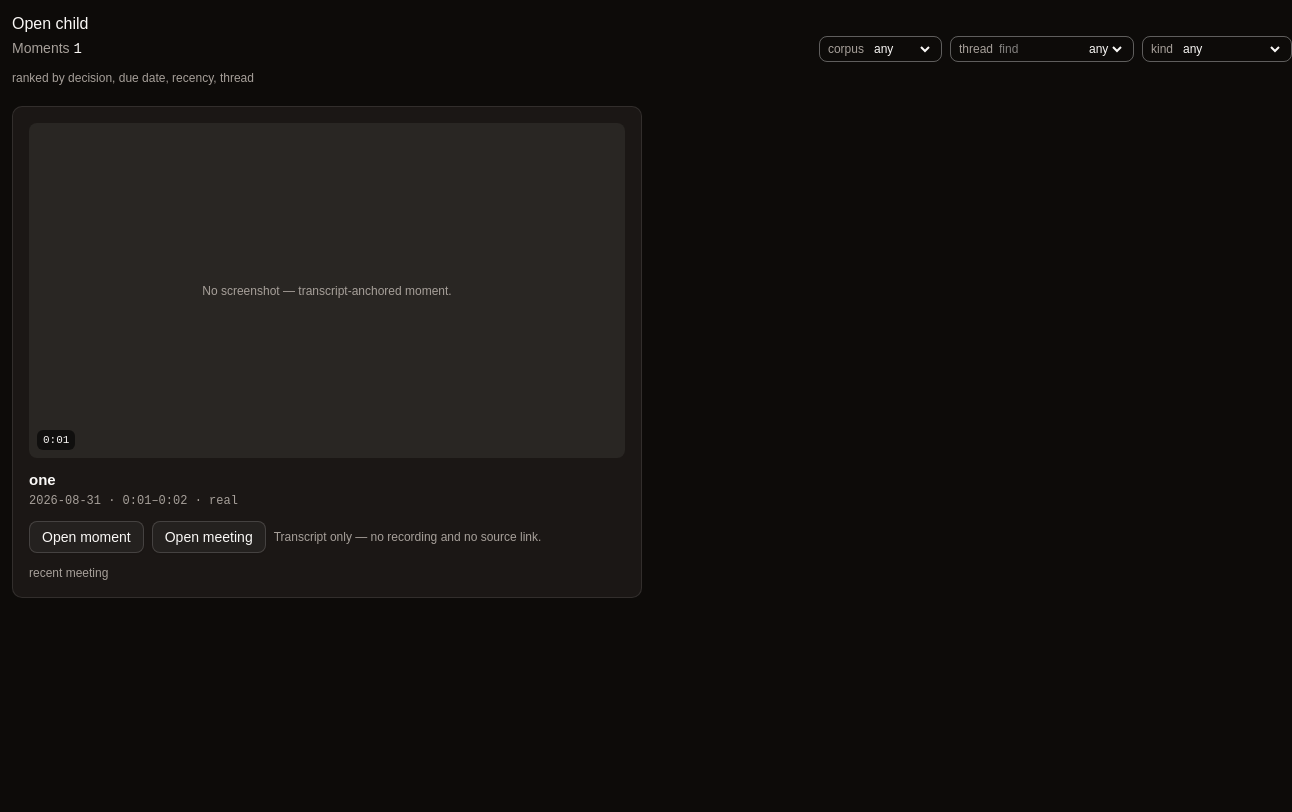
review F4 — a mounted feed owns its visible page › keeps the previous cards stale when a filter refresh fails
Expected: the element with test id "moment-card-one" is shown, [12, 106, 642, 598]
Step 1. Select "scripted" in the dropdown with test id "filter-corpus" → (902, 49), box [870, 41, 933, 57]
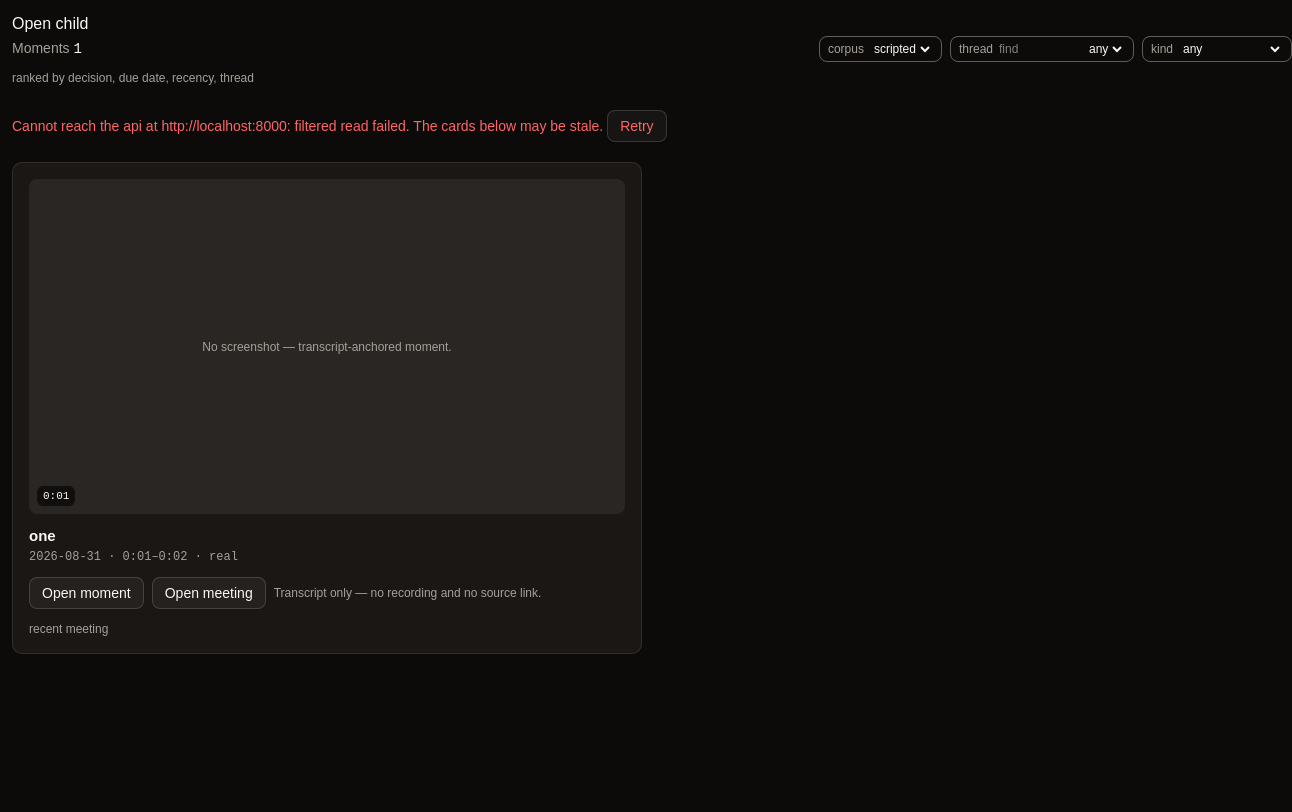
Expected: the element with test id "moment-card-one" is shown, [12, 162, 642, 654]
Expected: the message with test id "moments-error" shows "The cards below may be stale.", [410, 118, 603, 134]
